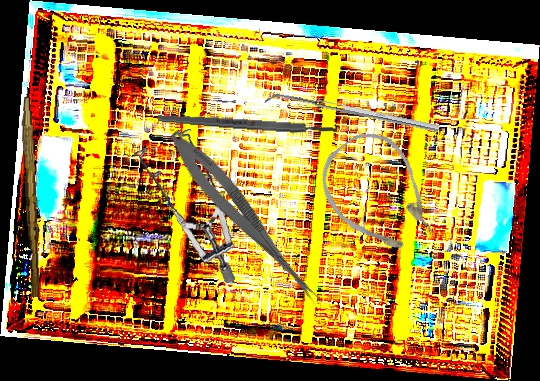Cannula: (306, 119, 452, 272)
Micro Scissor: (160, 124, 332, 310)
Scalpel Handle: (16, 96, 45, 298), (157, 112, 338, 136)
Spatula Surgical: (264, 88, 440, 140)
Speculum: (119, 123, 253, 284)
